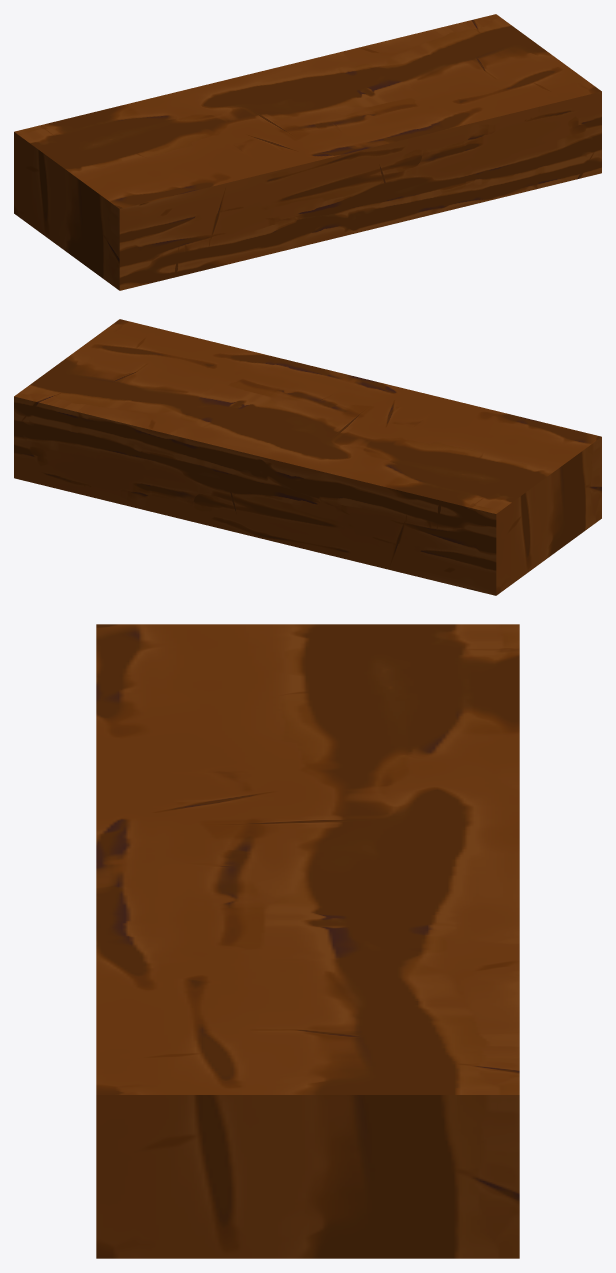
File: MOD_WallCover_02_M_straight_01_half.fbx
3 renders of one model, top to bottom at view 1: azimuth 30°, elevation 25°; view 2: azimuth 150°, elevation 25°; view 3: azimuth 270°, elevation 25°, orthographic. The views are drawn at different scales.
Parts seen in each view (by area): view 1: MOD_WallCover_02_M_straight_01_half; view 2: MOD_WallCover_02_M_straight_01_half; view 3: MOD_WallCover_02_M_straight_01_half.
Part boxes in pixels (left/top/right/bottom): MOD_WallCover_02_M_straight_01_half: left=14, top=14, right=601, bottom=290; MOD_WallCover_02_M_straight_01_half: left=14, top=319, right=601, bottom=595; MOD_WallCover_02_M_straight_01_half: left=96, top=624, right=519, bottom=1258.
Size of the model in its own units: 200 by 32.41 by 76.
